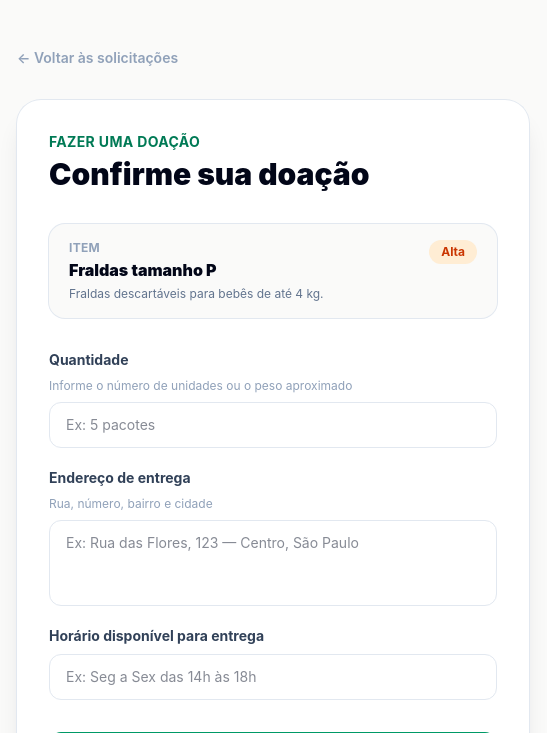
it: DoarPage › Fluxo de envio › exibe a tela de sucesso após os 800 ms de processamento
Type "5" into the number field with placeholder "Ex: 5 pacotes".
click(273, 425); type("5")  # box [49,402,497,448]
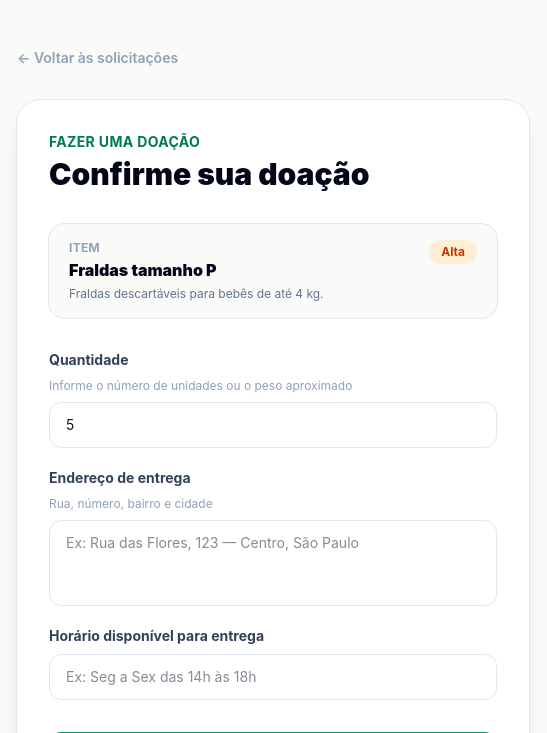
Type "Rua Teste, 123 — Centro, São Paulo" into the text box with placeholder "Ex: Rua das Flores, 123 — Centro, São Paulo".
click(273, 563); type("Rua Teste, 123 — Centro, São Paulo")  # box [49,520,497,606]
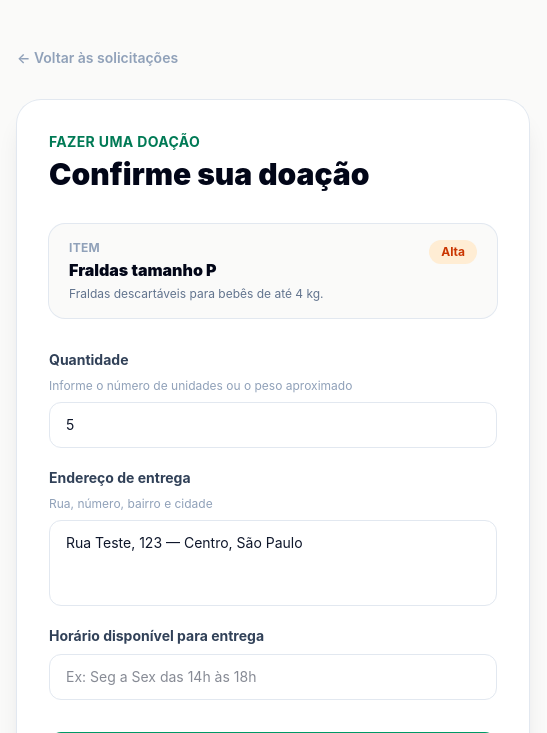
Type "Seg a Sex das 9h às 18h" into the field with placeholder "Ex: Seg a Sex das 14h às 18h".
click(273, 677); type("Seg a Sex das 9h às 18h")  # box [49,654,497,700]
(page scrolled)
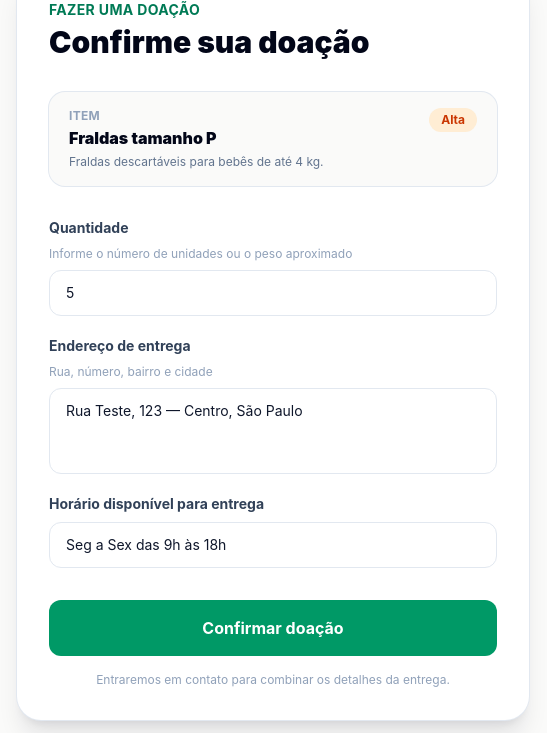
Click the button "Confirmar doação".
click(273, 628)  # box [49,600,497,656]
Wait 800 ms
(page scrolled)
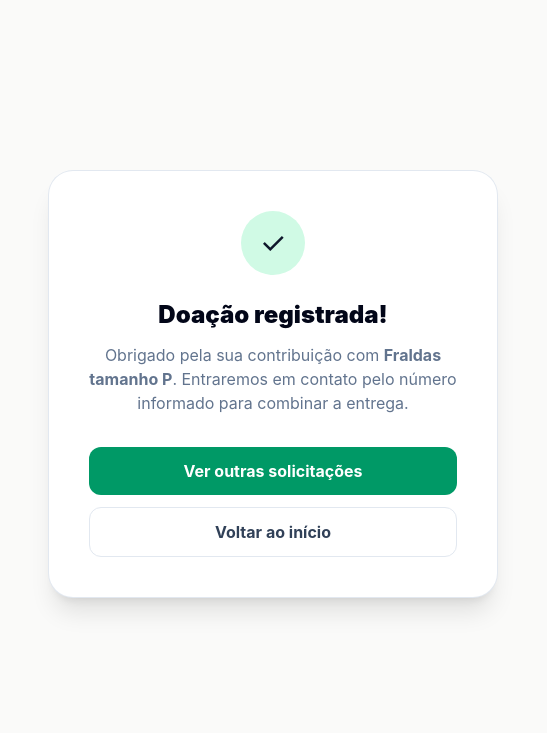
expect the heading "Doação registrada!" is shown: met, box [158,300,388,329]
